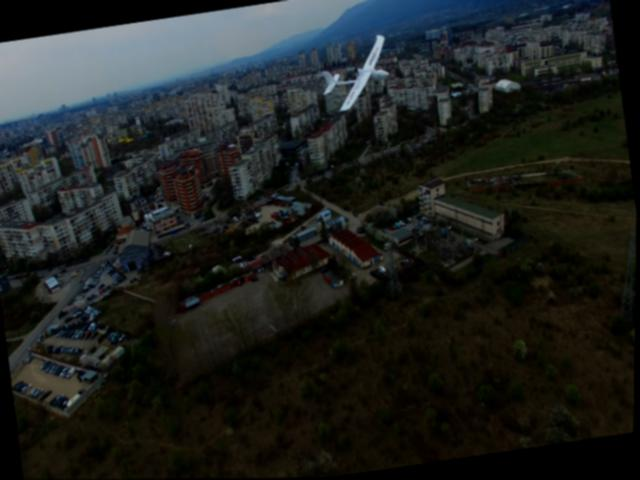plane: (317, 35, 396, 114)
